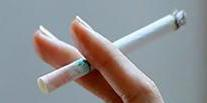smoke: (34, 8, 188, 95)
